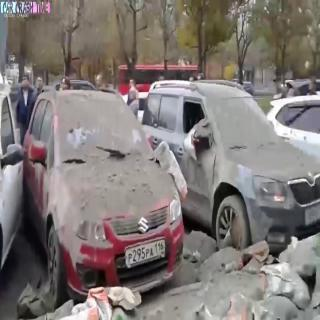multiple_accident: (48, 105, 227, 222)
